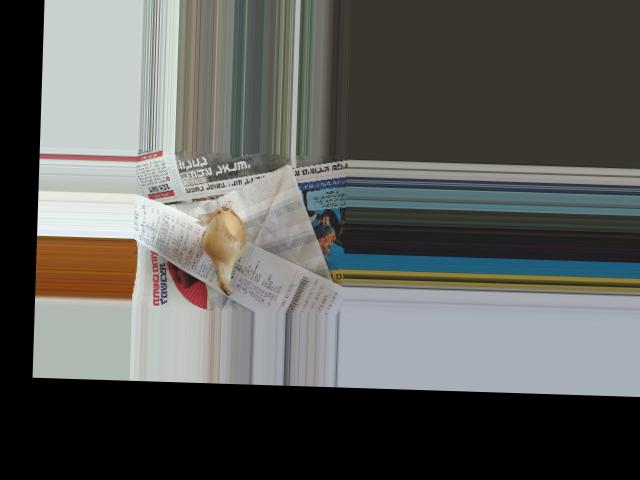onion: (201, 214, 248, 268)
